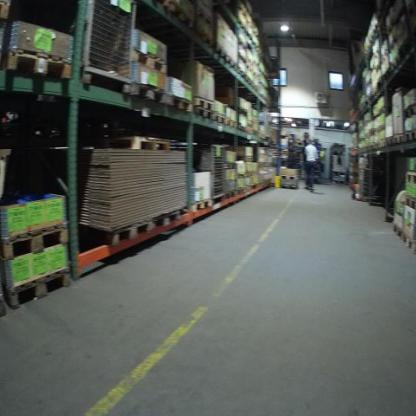pallet: (7, 266, 74, 308), (1, 222, 71, 262), (3, 49, 72, 79), (105, 216, 155, 248), (130, 48, 168, 73), (129, 82, 168, 103), (151, 209, 183, 231), (168, 3, 195, 29), (111, 140, 169, 150), (167, 92, 193, 113), (191, 198, 212, 214), (193, 96, 214, 111), (193, 106, 213, 121), (402, 233, 414, 250), (404, 104, 416, 119), (392, 133, 405, 146), (404, 171, 416, 185), (405, 195, 416, 210), (391, 224, 402, 238), (214, 114, 226, 126), (405, 130, 416, 143), (280, 183, 298, 190), (280, 174, 297, 181)
pallet_truck: (348, 154, 362, 204)
stillage: (72, 1, 141, 104), (191, 139, 225, 205), (358, 164, 385, 202)
